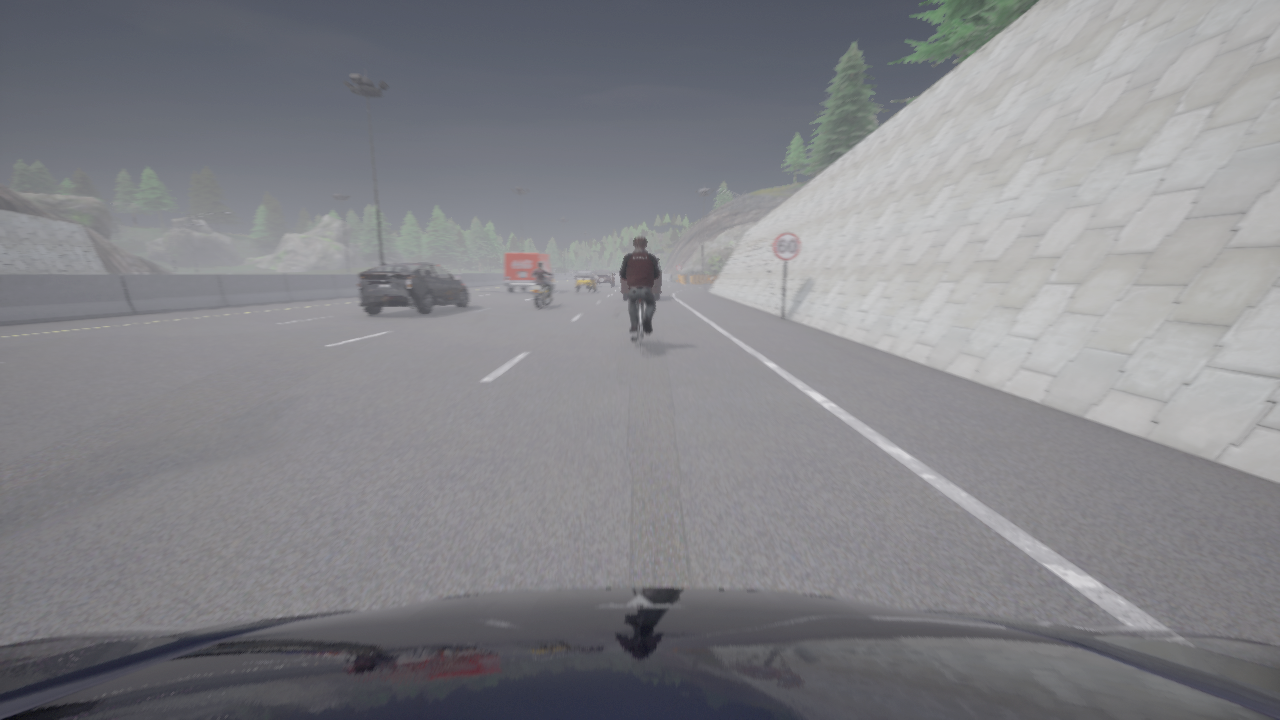cyclist: (0, 588, 1279, 719), (358, 263, 468, 315), (503, 253, 555, 292), (621, 258, 660, 299), (531, 275, 552, 308), (631, 300, 643, 352), (575, 271, 596, 292), (593, 270, 614, 286)
